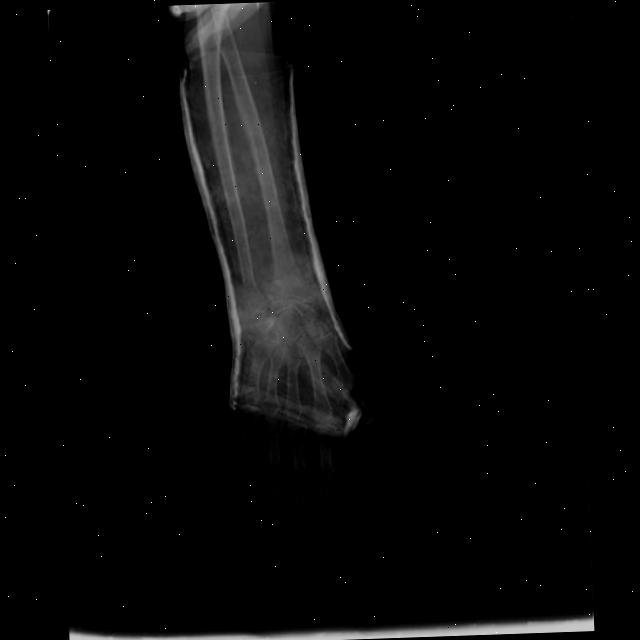Fracture: (259, 276, 316, 309)
